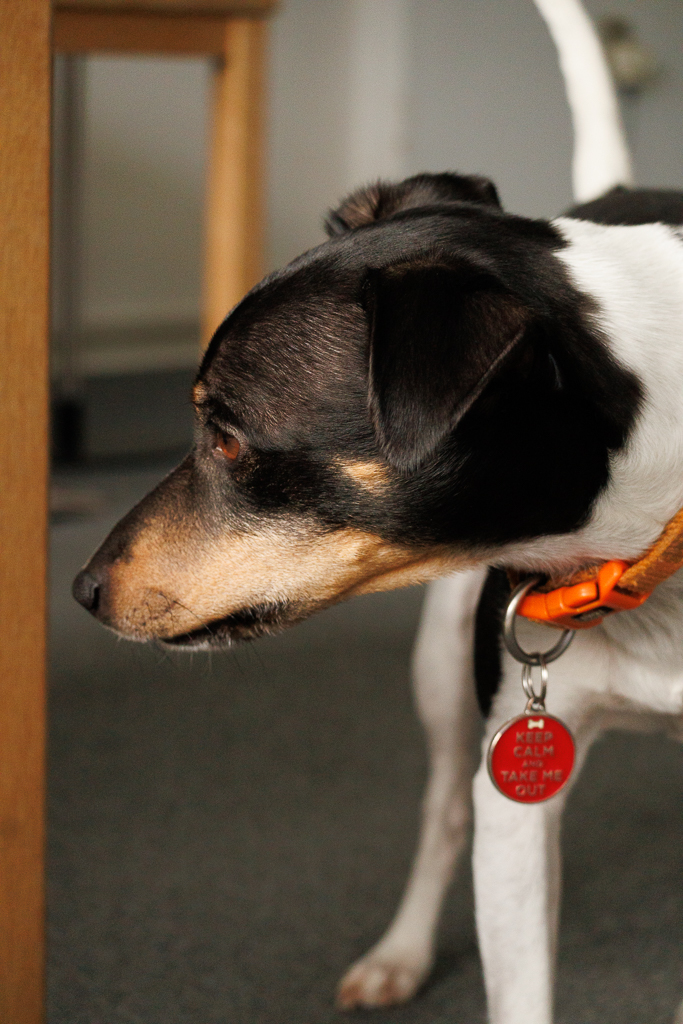Dog: (61, 0, 683, 1024)
